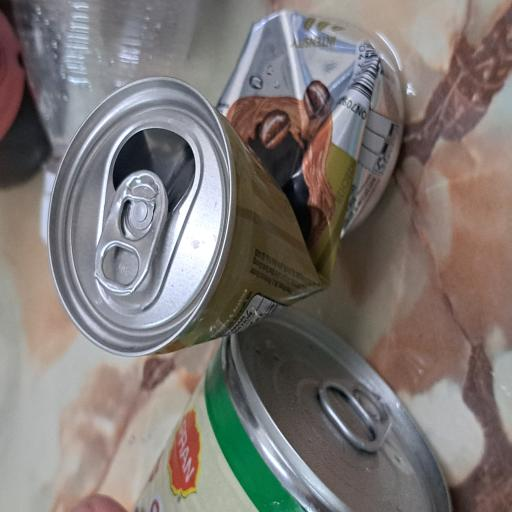can: (118, 66, 377, 512), (0, 171, 152, 512)
pop tab: (164, 124, 256, 224), (43, 421, 96, 512)
